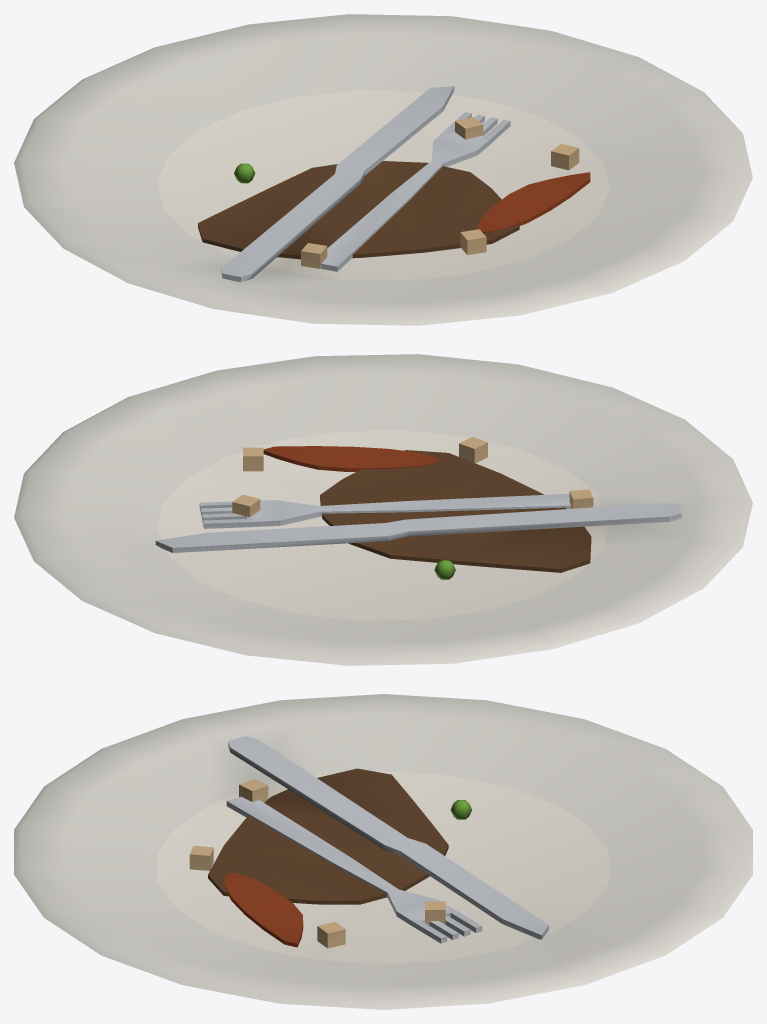
File: plateDirty.glb
The picture shows the model from 3 angles, top to bottom: view 1: azimuth 30°, elevation 25°; view 2: azimuth 150°, elevation 25°; view 3: azimuth 270°, elevation 25°; orthographic projection.
Parts seen in each view (by area): view 1: plateDirty; view 2: plateDirty; view 3: plateDirty.
Boxes of the visible parts, <box> form: plateDirty: <box>14,14,752,325</box>; plateDirty: <box>14,354,752,665</box>; plateDirty: <box>14,694,752,1009</box>.
Bounding box in the file's own units: 0.2876 × 0.0172 × 0.2847.
